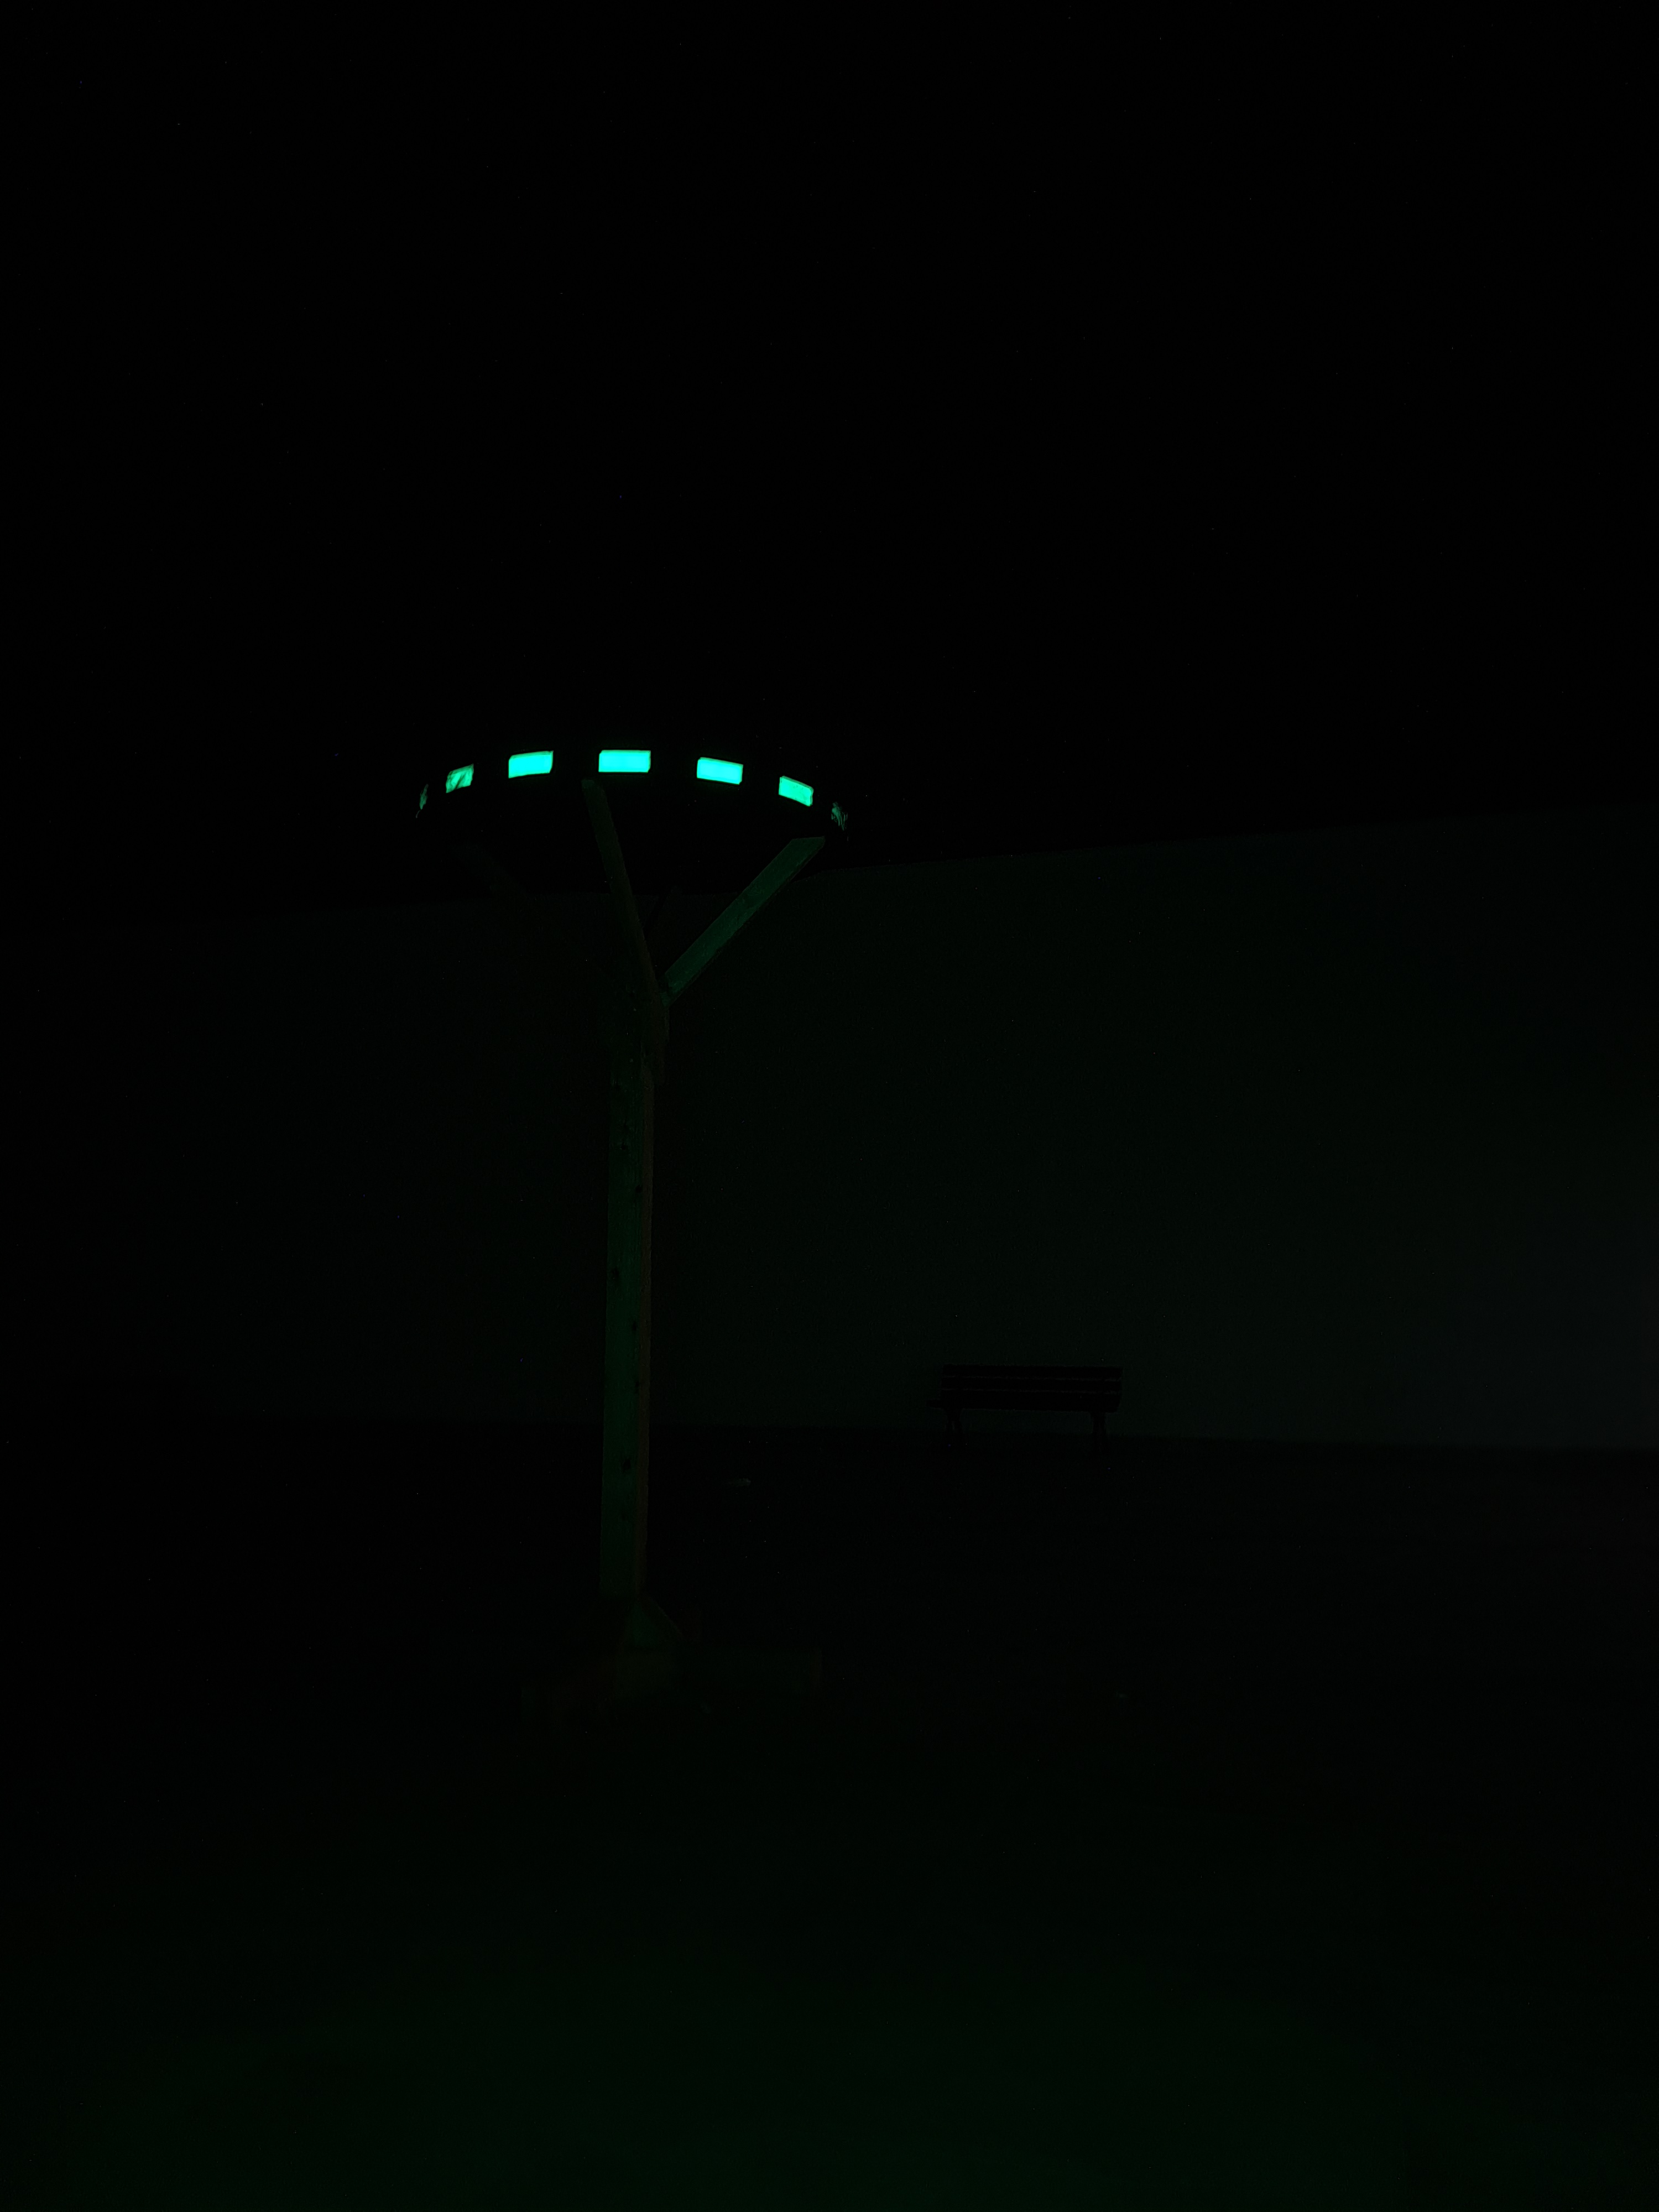hoop: (413, 744, 845, 834)
